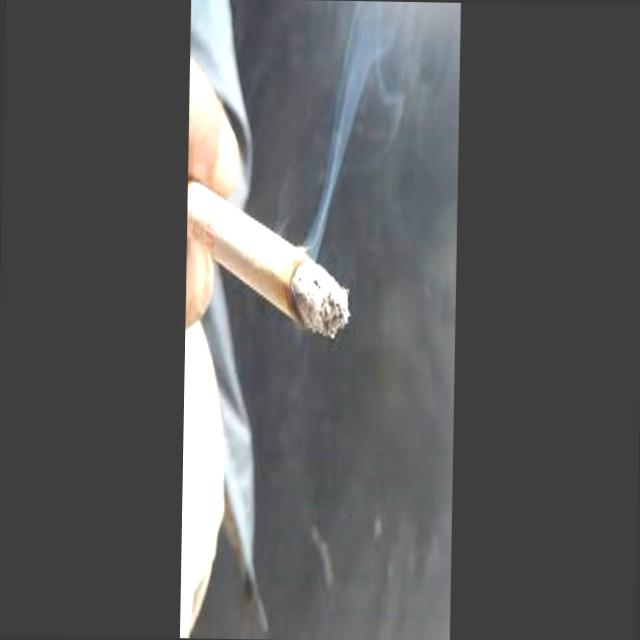smoke: (186, 108, 356, 370)
